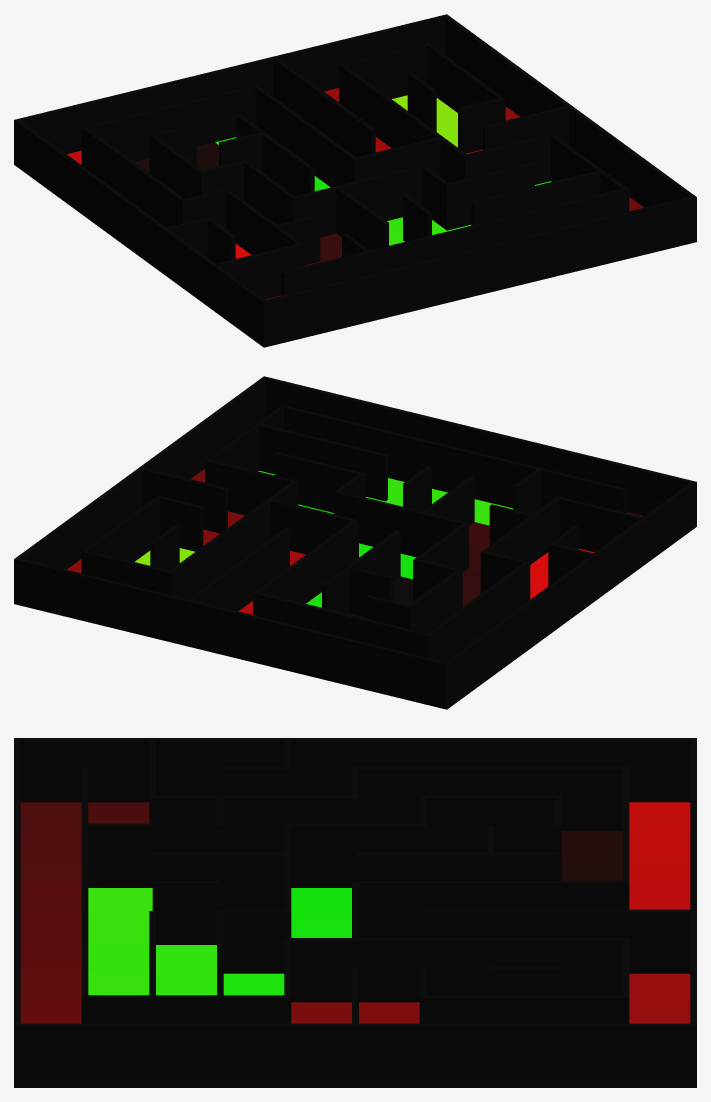
Rendered from Basement.fbx.
3 views of the same model, one above another, from view 1: azimuth 30°, elevation 25°; view 2: azimuth 150°, elevation 25°; view 3: azimuth 270°, elevation 25° (orthographic). The views are drawn at different scales.
Visible parts, largest first — view 1: MG_Walls, MG_Cells; view 2: MG_Walls, MG_Cells; view 3: MG_Walls, MG_Cells.
Boxes of the visible parts, x1=… form: MG_Walls: x1=14, y1=14, x2=696, y2=347; MG_Cells: x1=67, y1=88, x2=643, y2=299; MG_Walls: x1=14, y1=376, x2=696, y2=709; MG_Cells: x1=67, y1=468, x2=643, y2=618; MG_Walls: x1=14, y1=738, x2=696, y2=1087; MG_Cells: x1=20, y1=802, x2=690, y2=1023.
Size of the model in its own units: 1010 by 100 by 1010.
